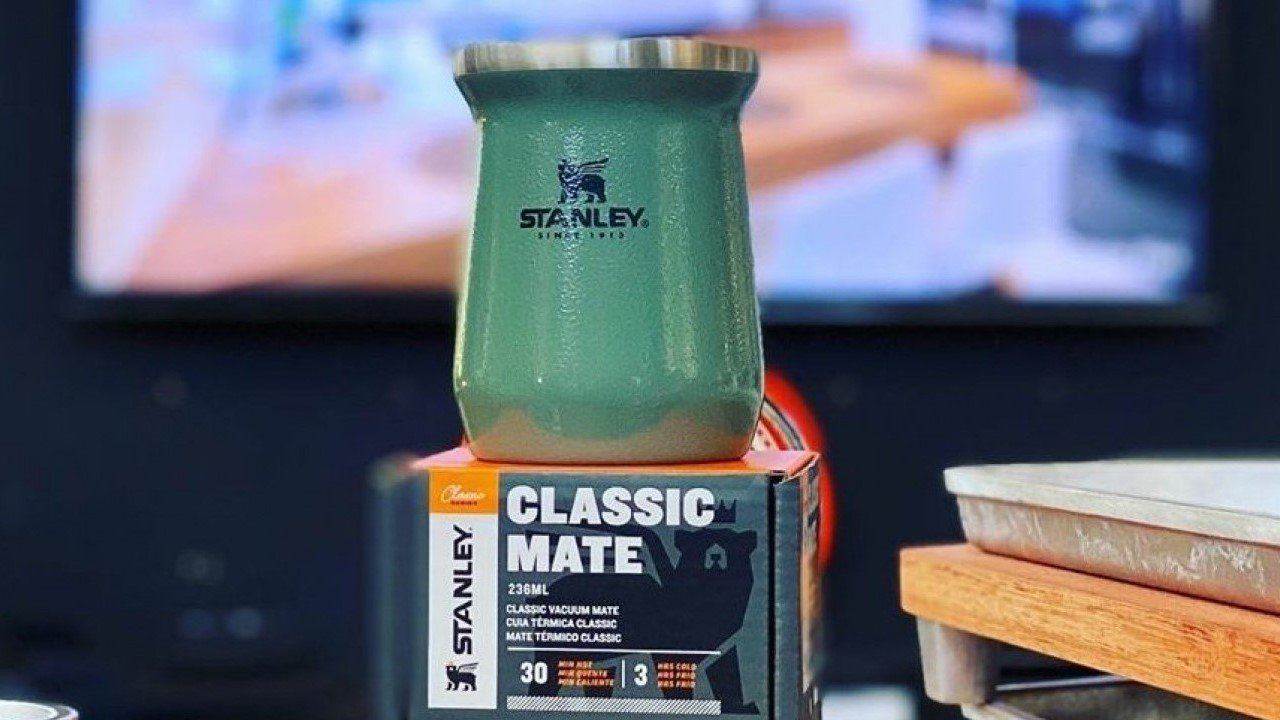mate: (443, 31, 786, 470)
metal: (441, 29, 784, 468)
